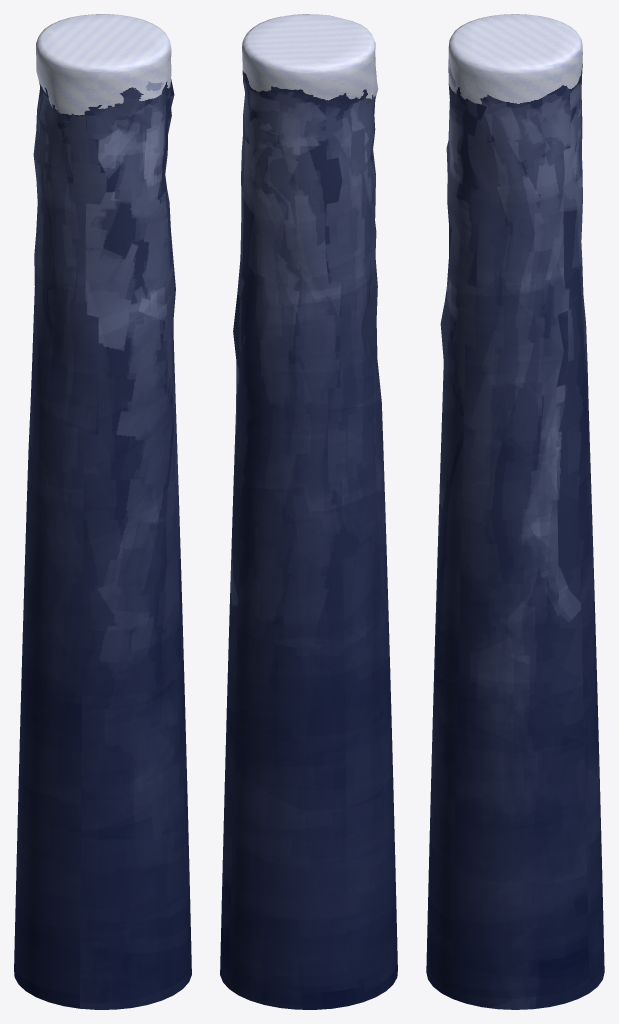
Rendered from Platform_Circular_Small.fbx.
3 views of the same model, side by side, from view 1: azimuth 30°, elevation 25°; view 2: azimuth 150°, elevation 25°; view 3: azimuth 270°, elevation 25° (orthographic).
Parts seen in each view (by area): view 1: Small Platform; view 2: Small Platform; view 3: Small Platform.
Part boxes in pixels (left/top/right/bottom): Small Platform: left=14, top=14, right=191, bottom=1009; Small Platform: left=220, top=14, right=397, bottom=1009; Small Platform: left=426, top=14, right=604, bottom=1009.
Bounding box in the file's own units: 5594 × 32288 × 5594.
